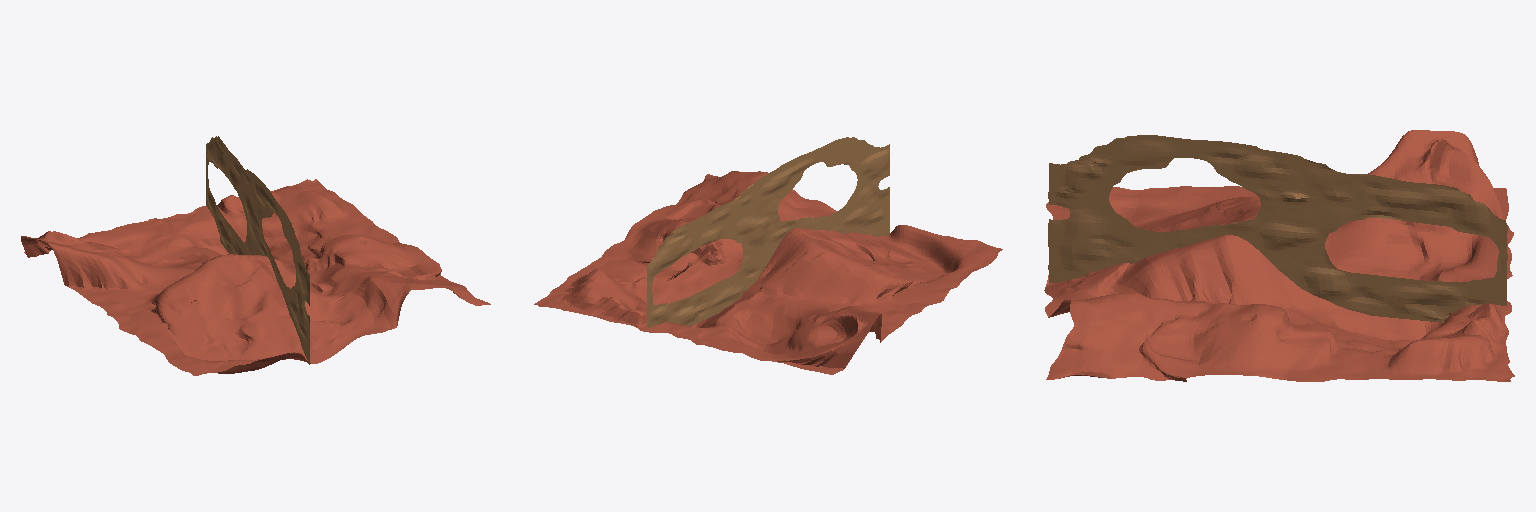
The robot description file, URDF, robot "object":
<?xml version="1.0"?>
<robot name="object">
  <link name="base_link"> <!-- required name-->
    <inertial>
      <origin xyz="0 0 0" /> 
      <mass value="1.0" />
      <inertia  ixx="1.0" ixy="0.0"  ixz="0.0"  iyy="1.0"  iyz="0.0"  izz="1.0" />
    </inertial>
    <visual>
      <origin xyz="0 0 0"/>
      <geometry>
        <mesh filename="package://animals_description/meshes/envir3d_1.dae"/>
      </geometry>
    </visual>
    <!--<collision>
      <origin xyz="0 0 0"/>
      <geometry>
        <mesh filename="package://animals_description/meshes/envir3d.dae"/>
      </geometry>
    </collision>-->
    <collision>
      <origin xyz="0 0 0"/>
      <geometry>
        <mesh filename="package://animals_description/meshes/envir3d_1.stl"/>
      </geometry>
    </collision>
  </link>

  <!--<joint name="j_decor_one" type="fixed">
    <parent link="base_link"/>
    <child link="l_decor_one"/>
    <origin rpy="0 0 0" xyz="0 0 0"/>
  </joint>
        
  <link name="l_decor_one">
    <visual>
      <origin xyz="0 0 0"/>
      <geometry>
        <mesh filename="package://animals_description/meshes/envir3d.stl"/>
      </geometry>
    </visual>
    <collision>
      <origin xyz="0 0 0"/>
      <geometry>
        <mesh filename="package://animals_description/meshes/envir3d.stl"/>
      </geometry>
    </collision>
  </link>-->

</robot>

--- Render facts (derived) ---
Views: 3 orthographic renders of the robot side by side, from view 1: azimuth 30°, elevation 25°; view 2: azimuth 150°, elevation 25°; view 3: azimuth 270°, elevation 25°.
Robot: object — 1 links, 0 joints (none); root link base_link; default pose: every joint at zero.
Visible links, largest first — view 1: base_link; view 2: base_link; view 3: base_link.
Link boxes in pixels (box(x1,y1,x2,y2)): base_link: box(21, 136, 490, 375); base_link: box(534, 137, 1002, 374); base_link: box(1044, 130, 1514, 381).
Bounding box of the posed robot: 8.37 × 8.12 × 3.37 m (x, y, z).
Meshes: 1 distinct files referenced, 1 mesh visuals loaded (1 Collada DAE).
